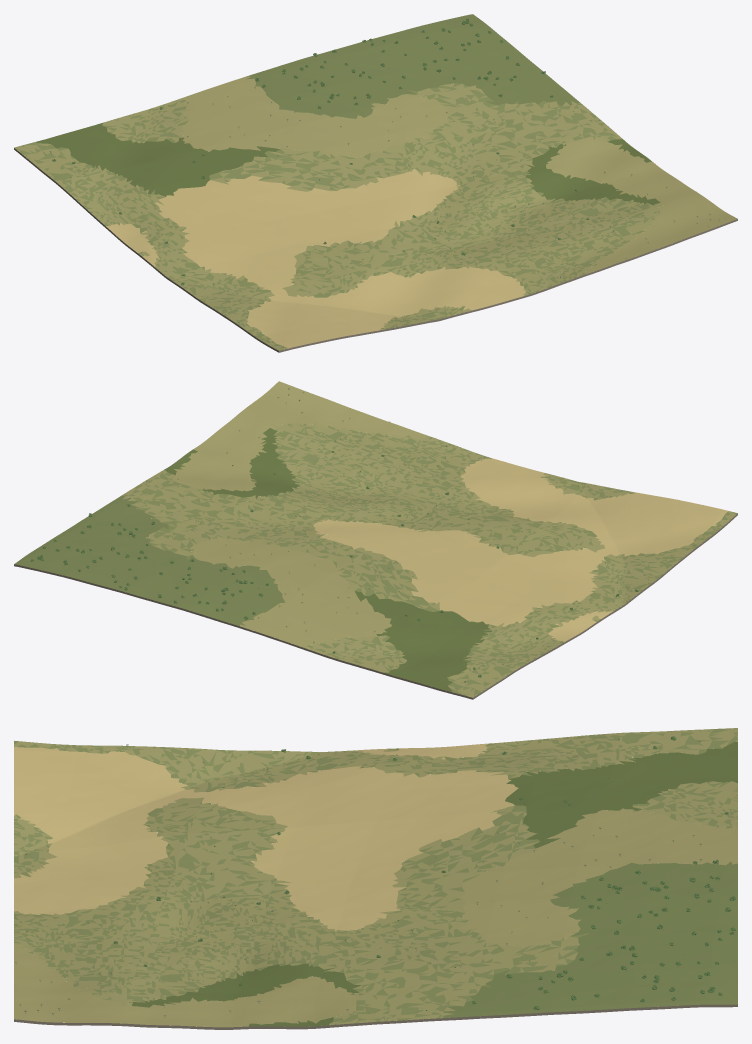
The model's file is parca_+1_-4-yakin.glb.
3 renders of one model, top to bottom at view 1: azimuth 30°, elevation 25°; view 2: azimuth 150°, elevation 25°; view 3: azimuth 270°, elevation 25°, orthographic. The views are drawn at different scales.
Visible parts, largest first — view 1: parca_+1_-4_arazi, parca_+1_-4_bitkiler; view 2: parca_+1_-4_arazi, parca_+1_-4_bitkiler; view 3: parca_+1_-4_arazi, parca_+1_-4_bitkiler.
Part boxes in pixels (x1=…): parca_+1_-4_arazi: x1=14, y1=14, x2=737, y2=352; parca_+1_-4_bitkiler: x1=49, y1=19, x2=720, y2=339; parca_+1_-4_arazi: x1=14, y1=381, x2=737, y2=699; parca_+1_-4_bitkiler: x1=31, y1=388, x2=695, y2=682; parca_+1_-4_arazi: x1=14, y1=728, x2=737, y2=1029; parca_+1_-4_bitkiler: x1=15, y1=731, x2=735, y2=1022.
Bounding box in the file's own units: 1000 × 95.01 × 1000.
